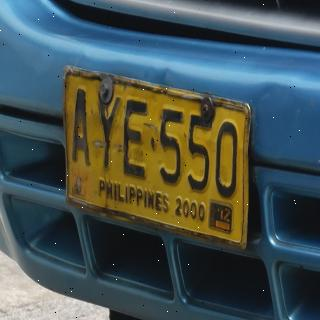license: (65, 68, 251, 249)
